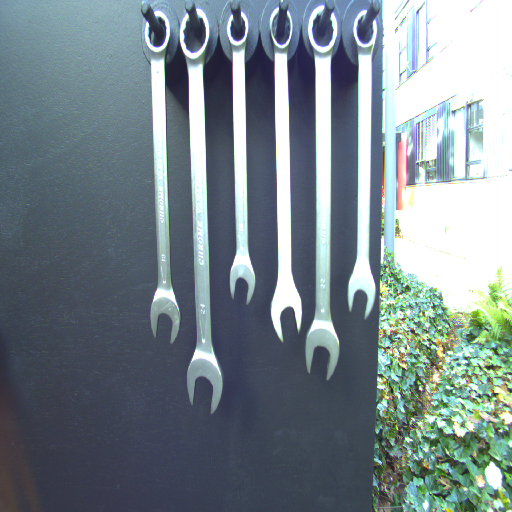bottom: (185, 351, 225, 416), (148, 287, 188, 349), (304, 318, 342, 382), (268, 281, 305, 343), (345, 265, 376, 321), (227, 254, 257, 306)
top: (306, 2, 337, 58), (178, 10, 211, 62), (141, 8, 173, 56), (350, 7, 378, 55), (267, 5, 295, 52), (223, 10, 252, 52)
